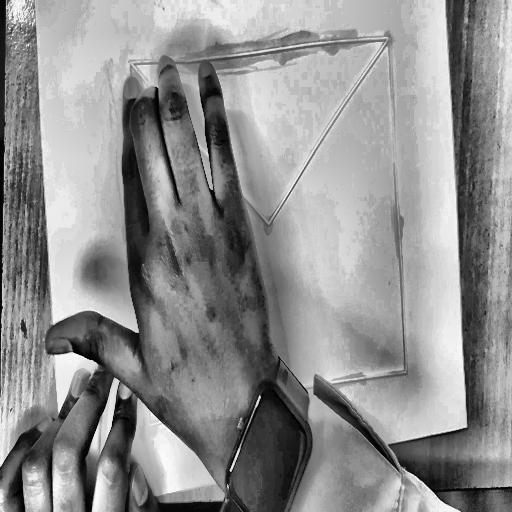bottom_right: (461, 416, 472, 433)
envelop: (121, 29, 416, 436)
